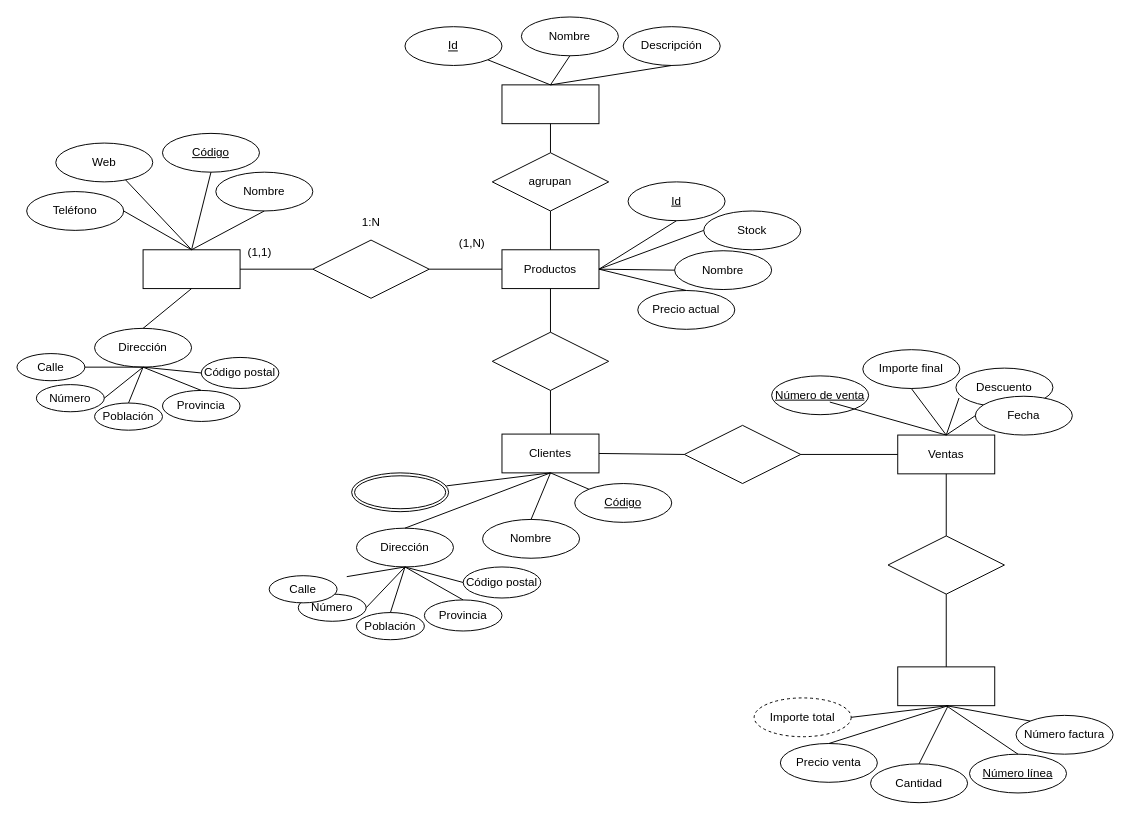
The diagram is 1130 pixels wide and 820 high, and some of its shapes have lost their labels. The centre of each missing label's shape, as x and y in pixels:
Categorías: (x=550, y=104)
compran: (x=550, y=360)
generan: (x=742, y=454)
Líneas ventas: (x=946, y=686)
Proveedores: (x=191, y=269)
suministran: (x=370, y=268)
Teléfonos: (x=400, y=492)
tienen: (x=945, y=564)
